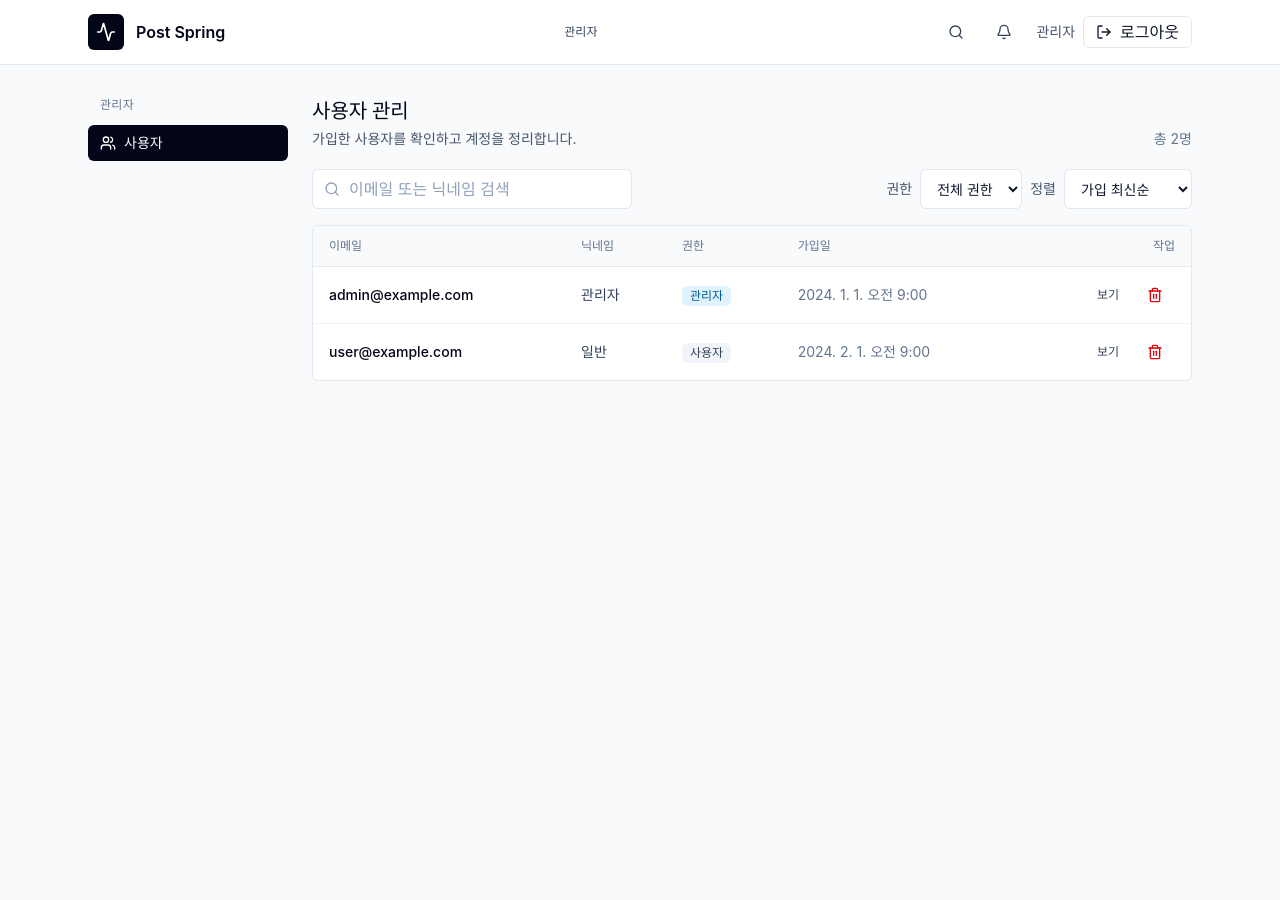
Scenario: AdminUsersPage › surfaces the server message when delete is blocked
Click the button named "user@example.com 삭제". click: x=1155, y=352
box: [1135, 336, 1175, 368]
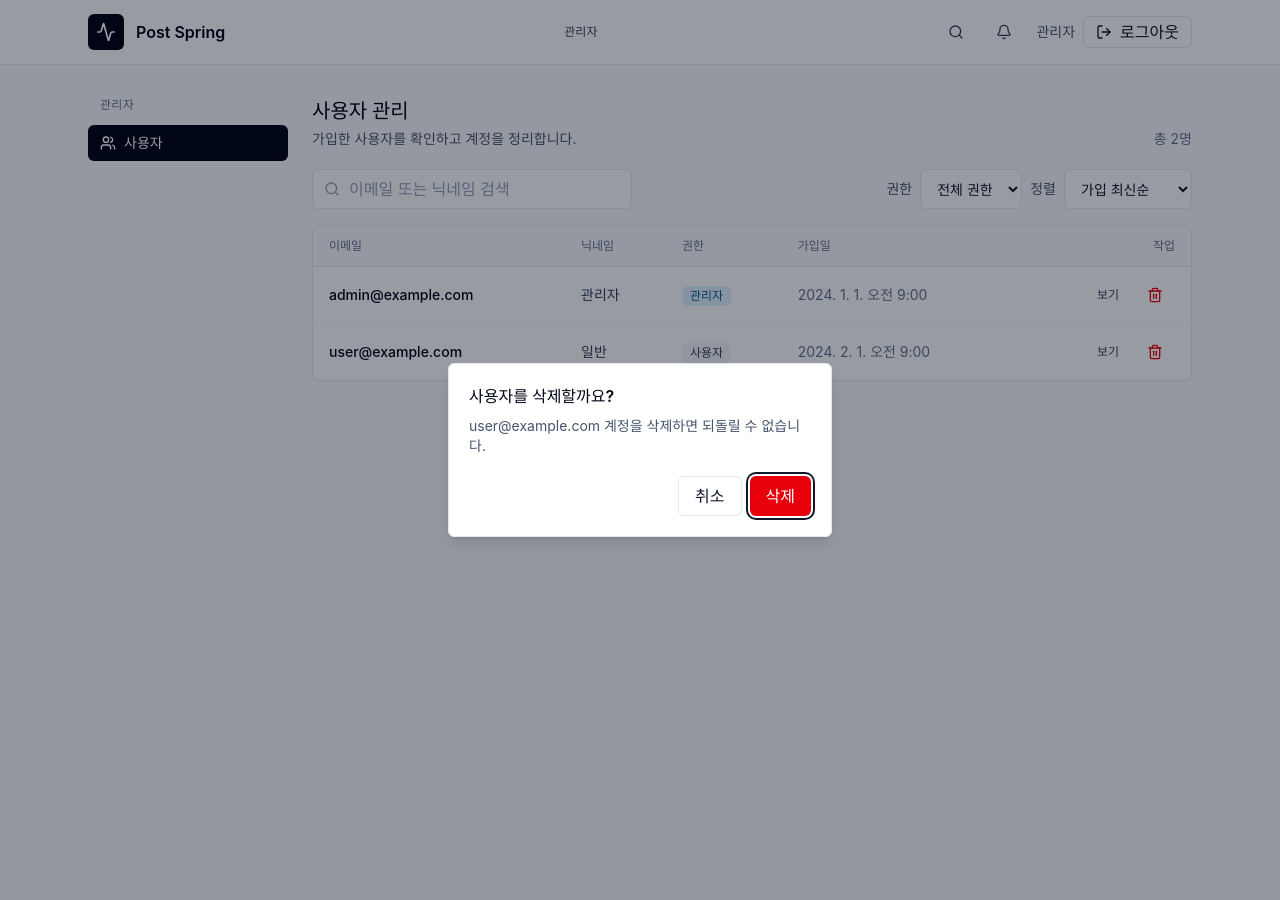
Click the button "삭제". click: x=780, y=496
box: [750, 476, 811, 516]
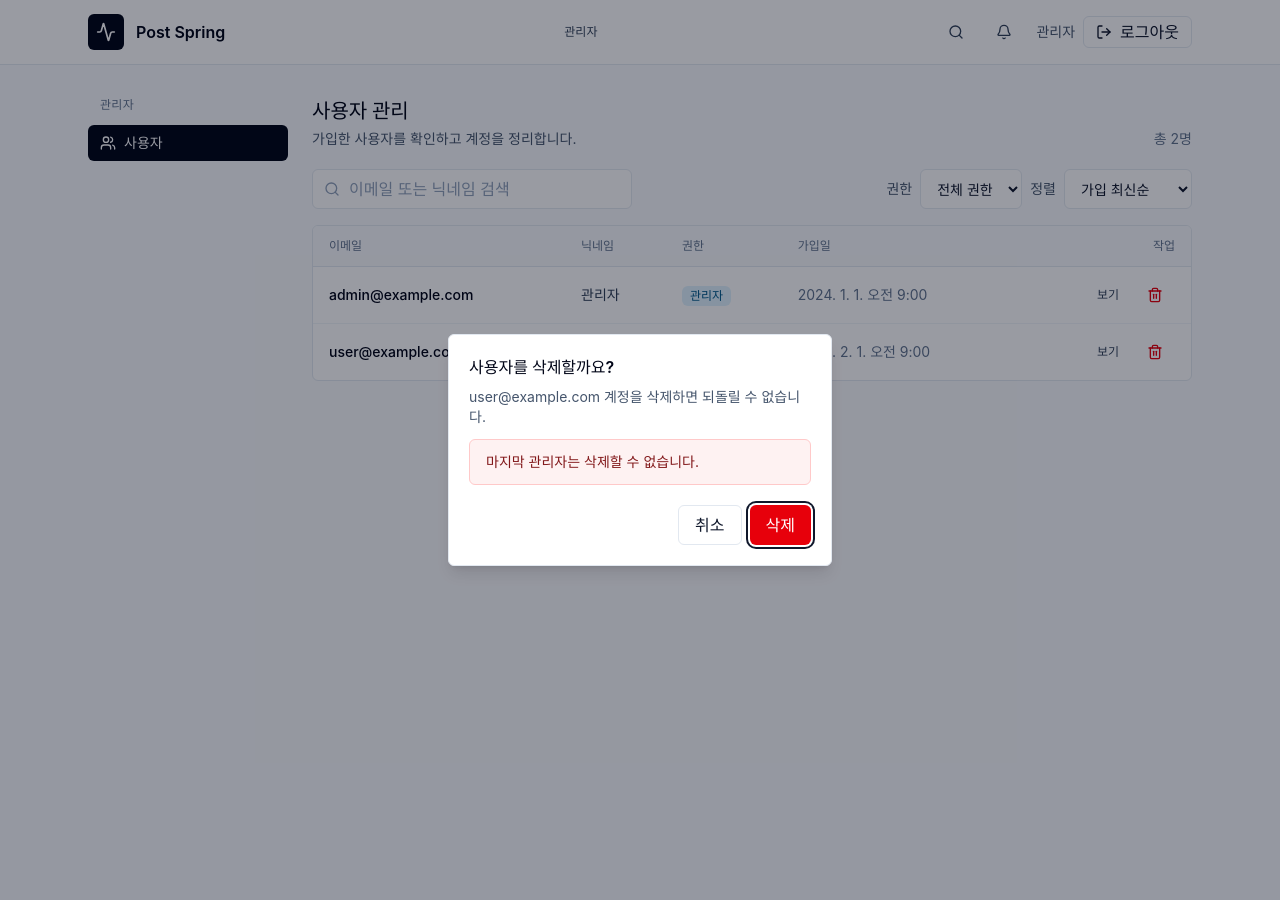
Expected: the message reads "마지막 관리자는 삭제할 수 없습니다.", [486, 453, 699, 470]
